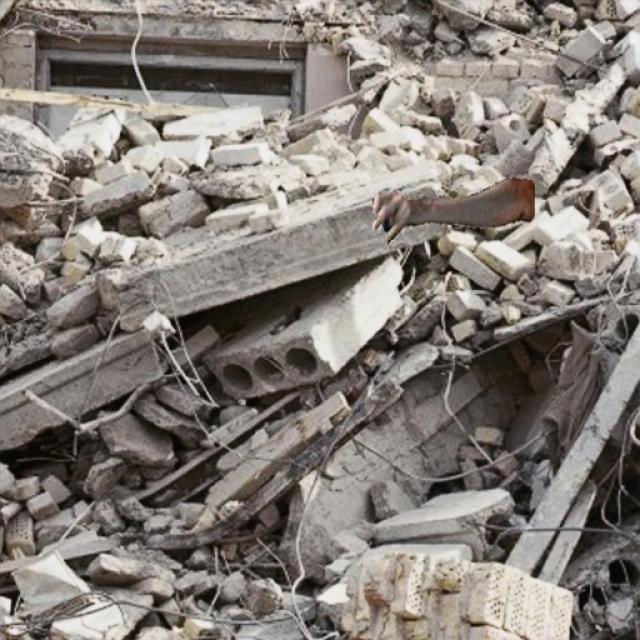Person in Rubble: (372, 178, 534, 242)
